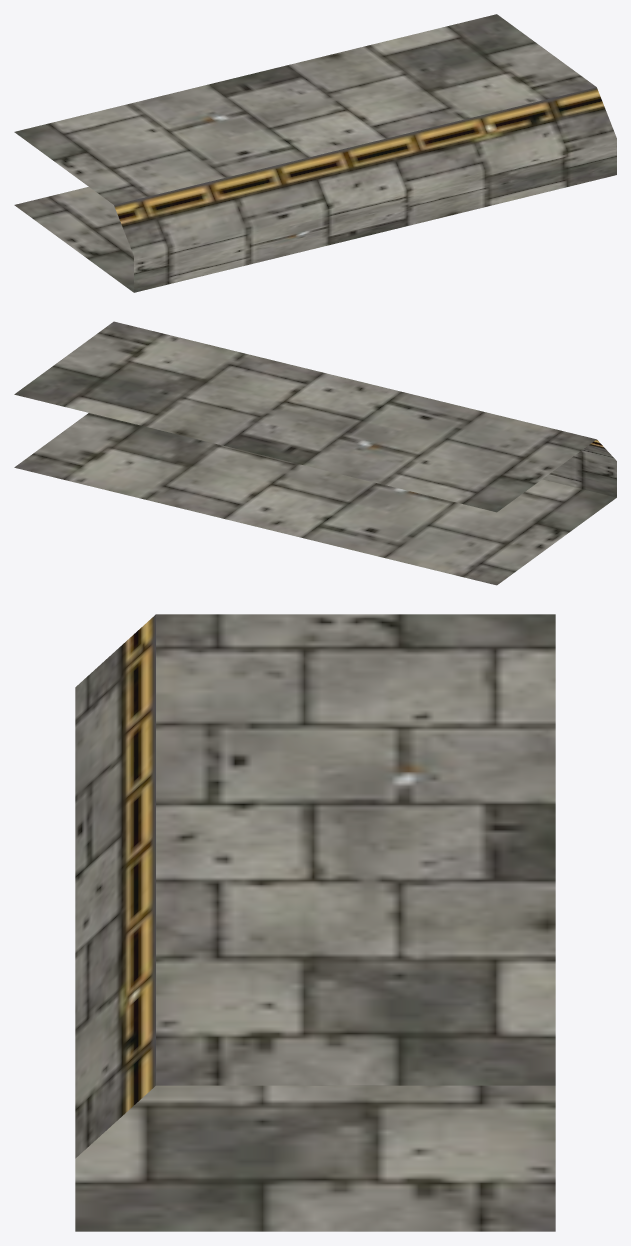
Rendered from sidewalk.glb.
3 renders of one model, top to bottom at view 1: azimuth 30°, elevation 25°; view 2: azimuth 150°, elevation 25°; view 3: azimuth 270°, elevation 25°, orthographic. The views are drawn at different scales.
Parts seen in each view (by area): view 1: Sidewalk; view 2: Sidewalk; view 3: Sidewalk.
Part boxes in pixels (left/top/right/bottom): Sidewalk: left=14, top=14, right=616, bottom=292; Sidewalk: left=14, top=321, right=616, bottom=585; Sidewalk: left=75, top=614, right=555, bottom=1231.
Bounding box in the file's own units: 2.27 × 0.3286 × 0.9787.
1 material, 1 textured.
